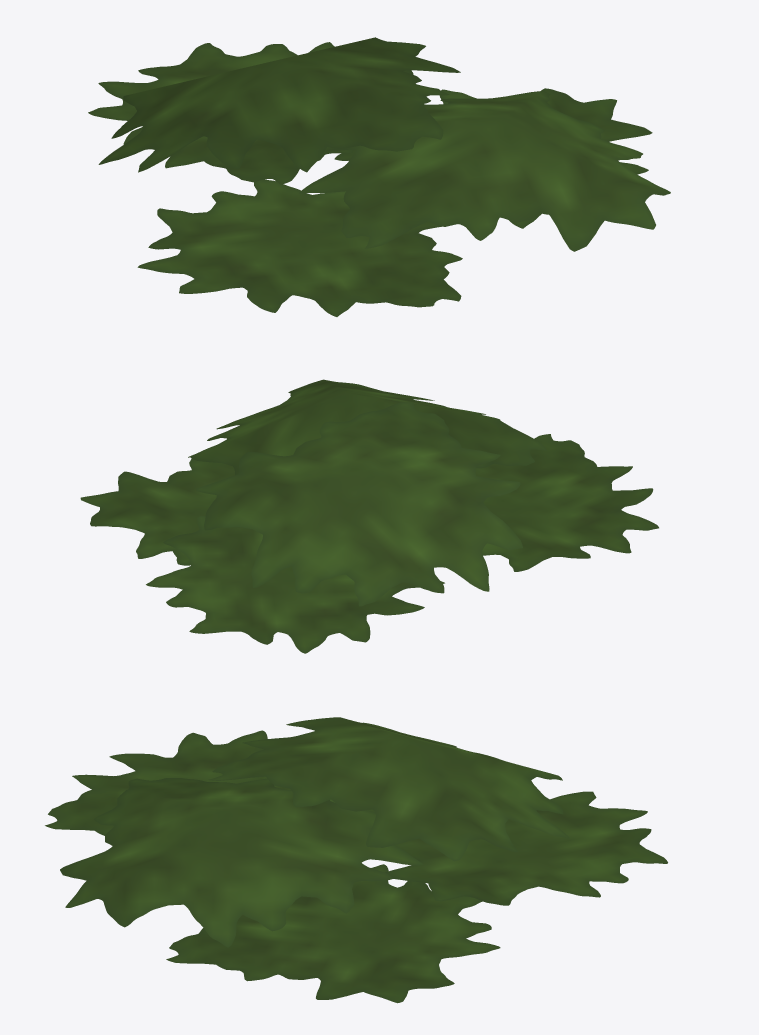
Rendered from Bush_04.fbx.
3 views of the same model, one above another, from view 1: azimuth 30°, elevation 25°; view 2: azimuth 150°, elevation 25°; view 3: azimuth 270°, elevation 25° (orthographic). The views are drawn at different scales.
Parts seen in each view (by area): view 1: Bush_04; view 2: Bush_04; view 3: Bush_04.
Part boxes in pixels (x1,y1,x2,y2): Bush_04: [88, 37, 670, 316]; Bush_04: [80, 379, 658, 653]; Bush_04: [45, 717, 667, 1003].
Bounding box in the file's own units: 220 × 38.74 × 234.
1 material, 1 textured.
